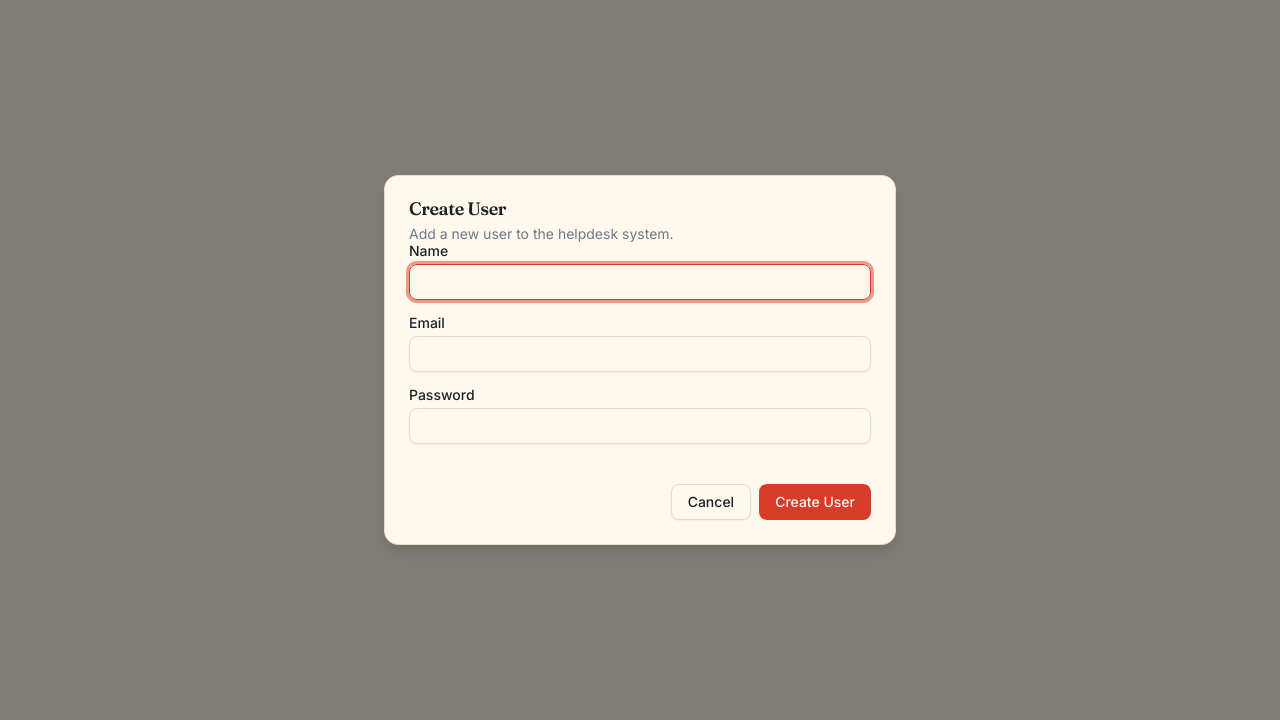
Test case: CreateUserDialog › shows validation error for name shorter than 3 characters
The image size is (1280, 720).
Type "ab" into the field labelled "Name" at (640, 282), box [409,264,871,300]
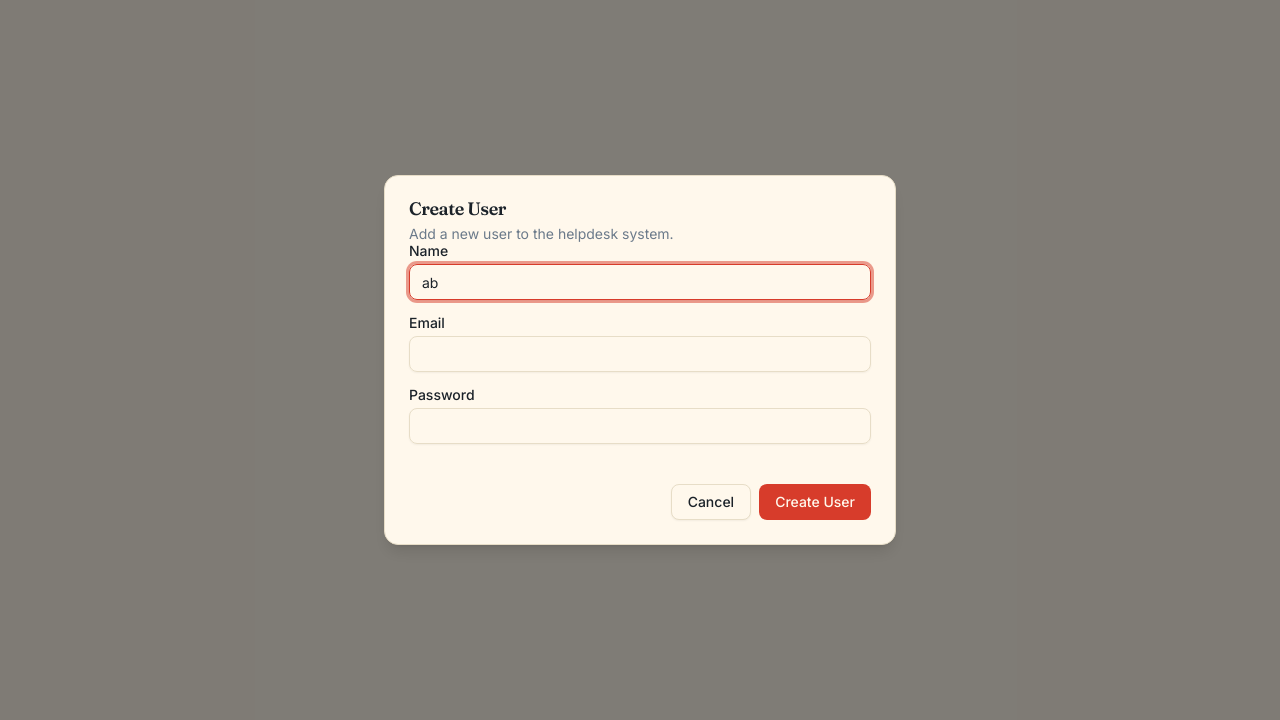
Press Tab
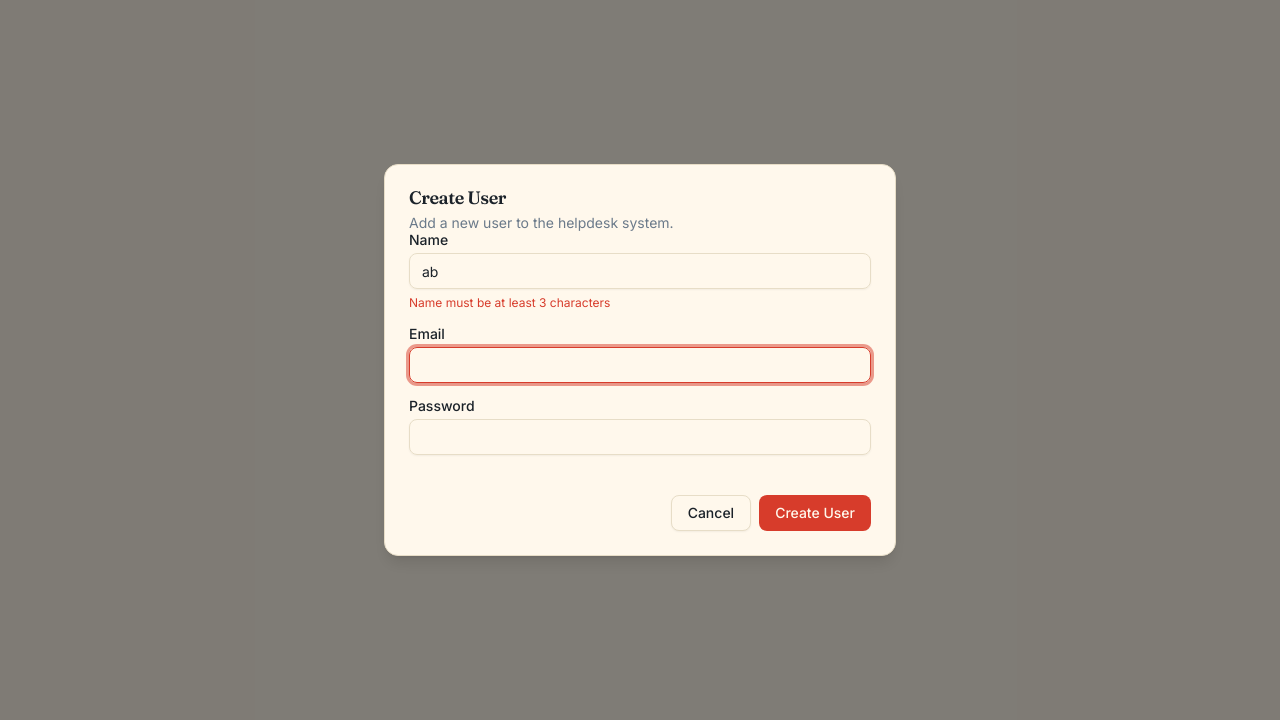
expect the text "Name must be at least 3 characters" is shown: met, box [409,295,610,310]
